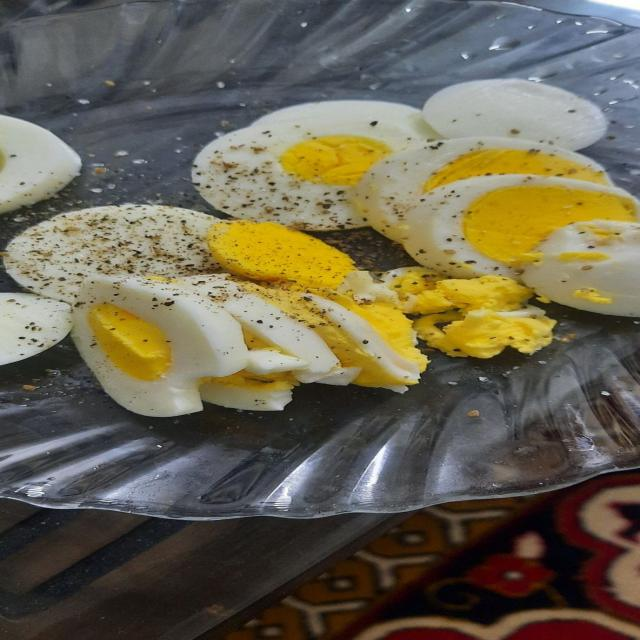eggs: (17, 96, 640, 417)
